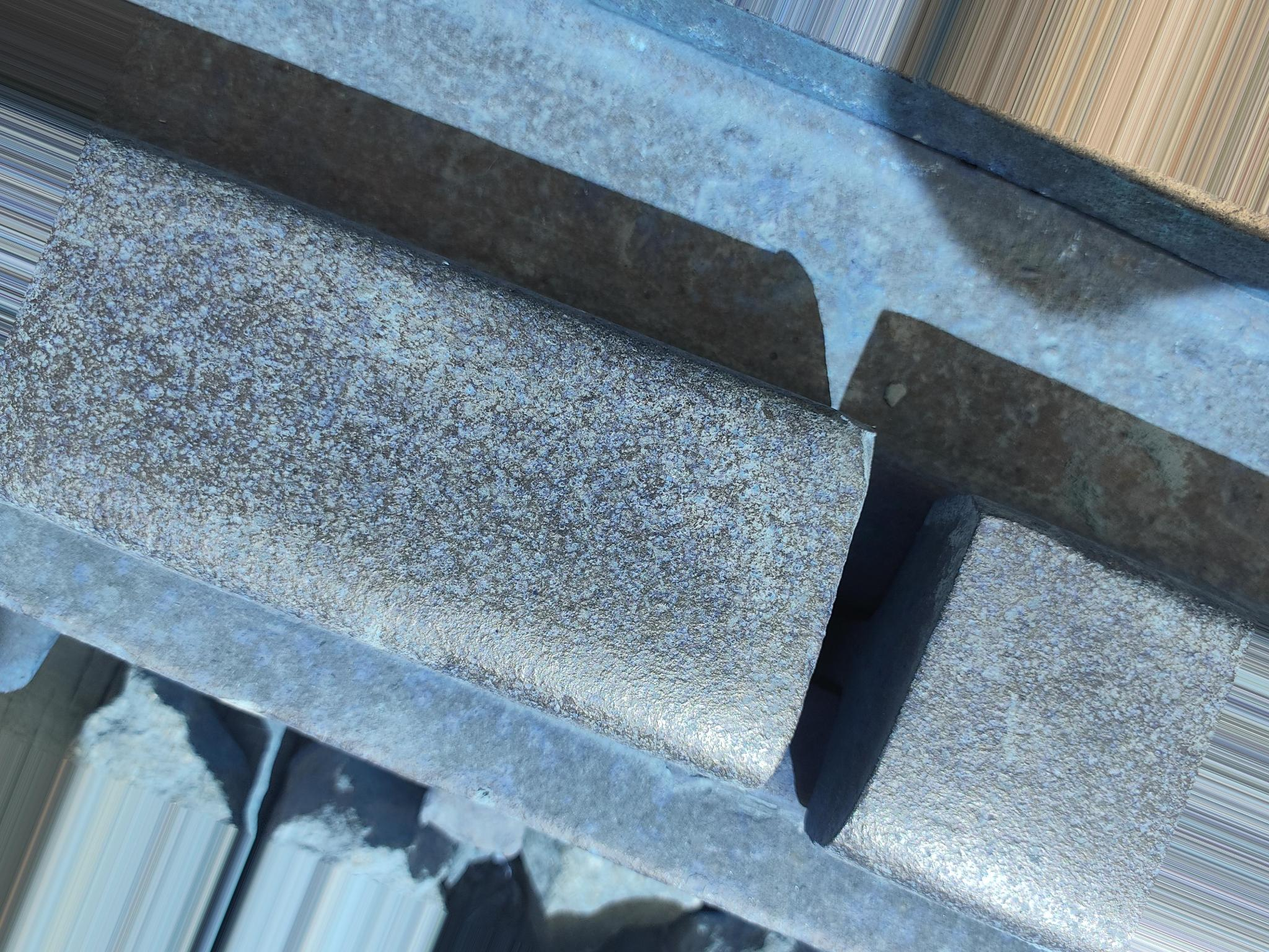person: (649, 397, 1062, 847)
